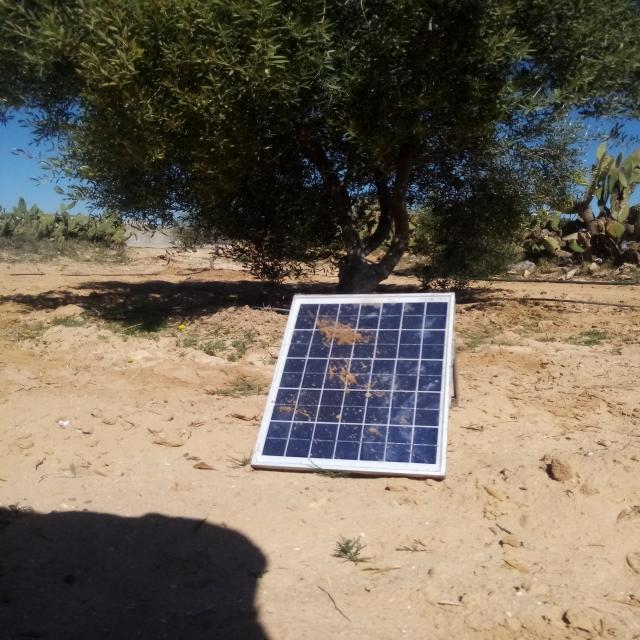faulty: (253, 294, 453, 475)
